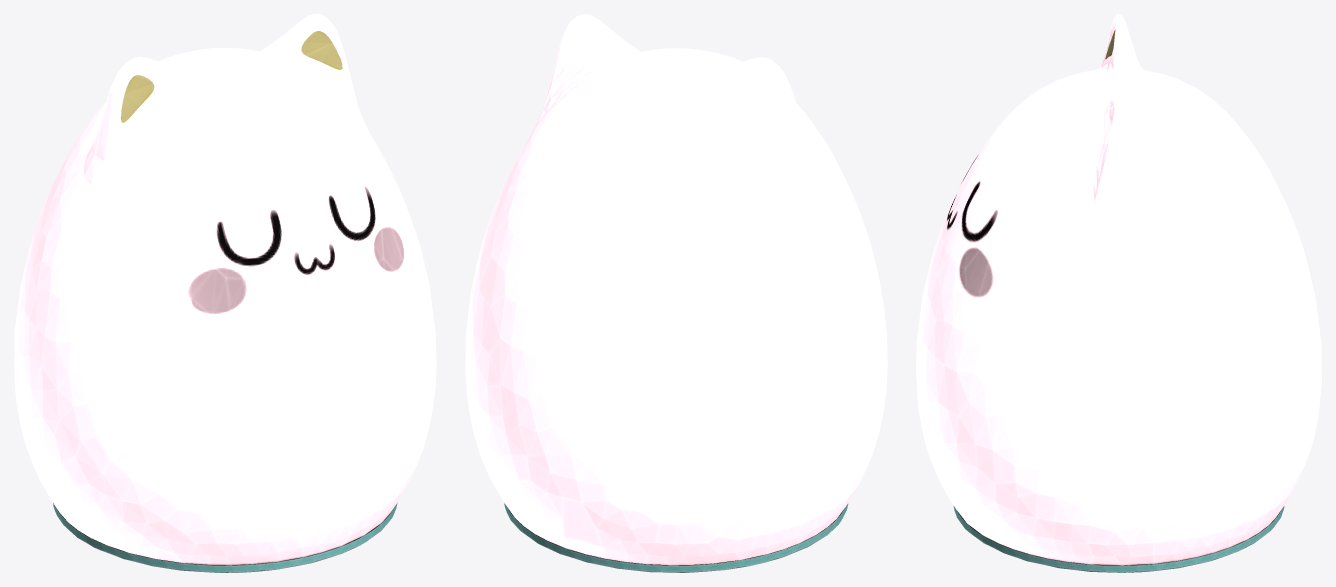
The model's file is cat_light.glb.
3 views of the same model, side by side, from view 1: azimuth 30°, elevation 25°; view 2: azimuth 150°, elevation 25°; view 3: azimuth 270°, elevation 25° (orthographic). The views are drawn at different scales.
Parts seen in each view (by area): view 1: Object_2; view 2: Object_2; view 3: Object_2.
Boxes of the visible parts, x1,y1,x2,y2 form: Object_2: (14, 14, 436, 572); Object_2: (465, 14, 887, 572); Object_2: (916, 14, 1321, 572).
Size of the model in its own units: 2.43 by 2.97 by 2.43.
Materials: 1 (1 with a texture image).
